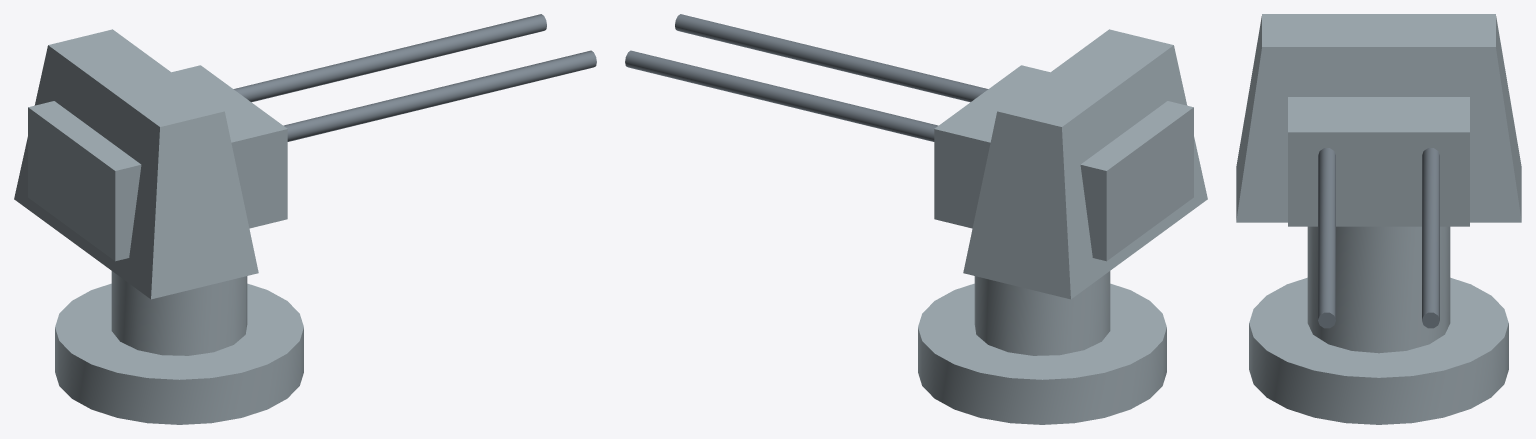
The model's file is irn_oerlikon_35mm.glb.
3 views of the same model, side by side, from view 1: azimuth 30°, elevation 25°; view 2: azimuth 150°, elevation 25°; view 3: azimuth 270°, elevation 25° (orthographic). The views are drawn at different scales.
Parts seen in each view (by area): view 1: naval_paint, titanium; view 2: naval_paint, titanium; view 3: naval_paint, titanium.
Part boxes in pixels (x1=…): naval_paint: x1=14, y1=29, x2=303, y2=424; titanium: x1=233, y1=14, x2=596, y2=141; naval_paint: x1=918, y1=29, x2=1207, y2=424; titanium: x1=625, y1=14, x2=988, y2=141; naval_paint: x1=1236, y1=14, x2=1521, y2=424; titanium: x1=1318, y1=148, x2=1439, y2=328.
Size of the model in its own units: 10 by 5.87 by 4.78.
